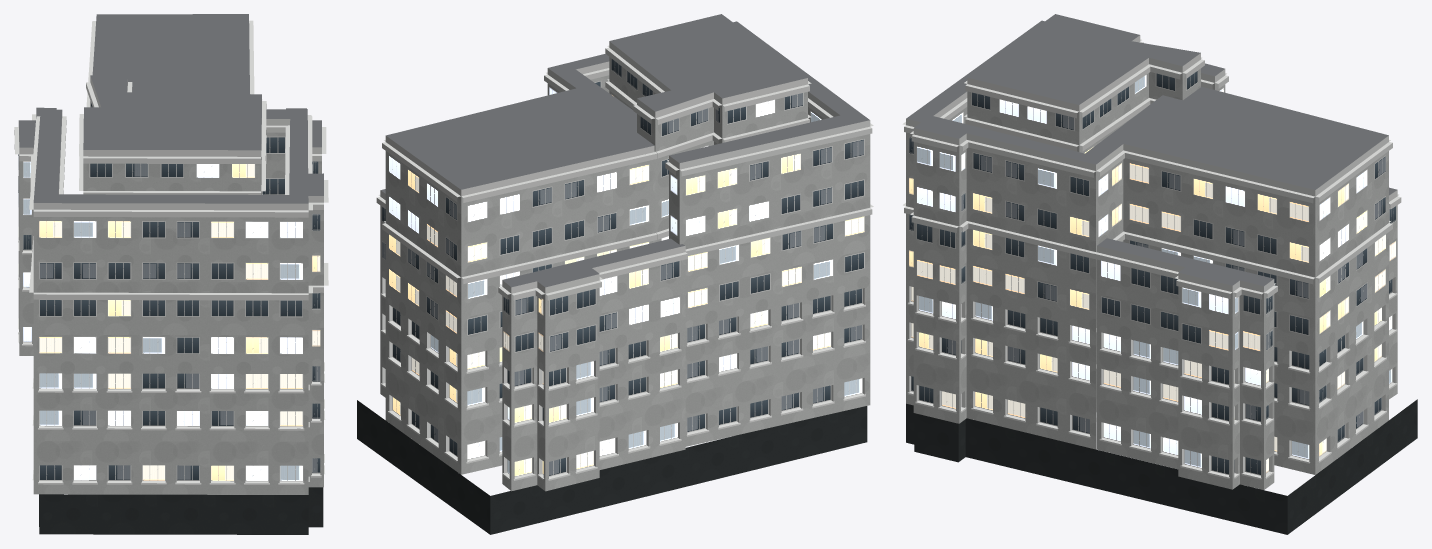
The model's file is langstr_grau.glb.
3 views of the same model, side by side, from view 1: azimuth 30°, elevation 25°; view 2: azimuth 150°, elevation 25°; view 3: azimuth 270°, elevation 25° (orthographic). The views are drawn at different scales.
Visible parts, largest first — view 1: langstr_grau; view 2: langstr_grau; view 3: langstr_grau.
Part boxes in pixels (left/top/right/bottom): langstr_grau: left=14, top=14, right=328, bottom=534; langstr_grau: left=357, top=14, right=873, bottom=534; langstr_grau: left=902, top=14, right=1417, bottom=534.
Size of the model in its own units: 31.63 by 27.47 by 35.88.
3 materials, 3 textured.
